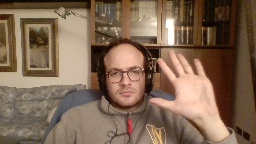Mano_aperta: (147, 49, 220, 125)
